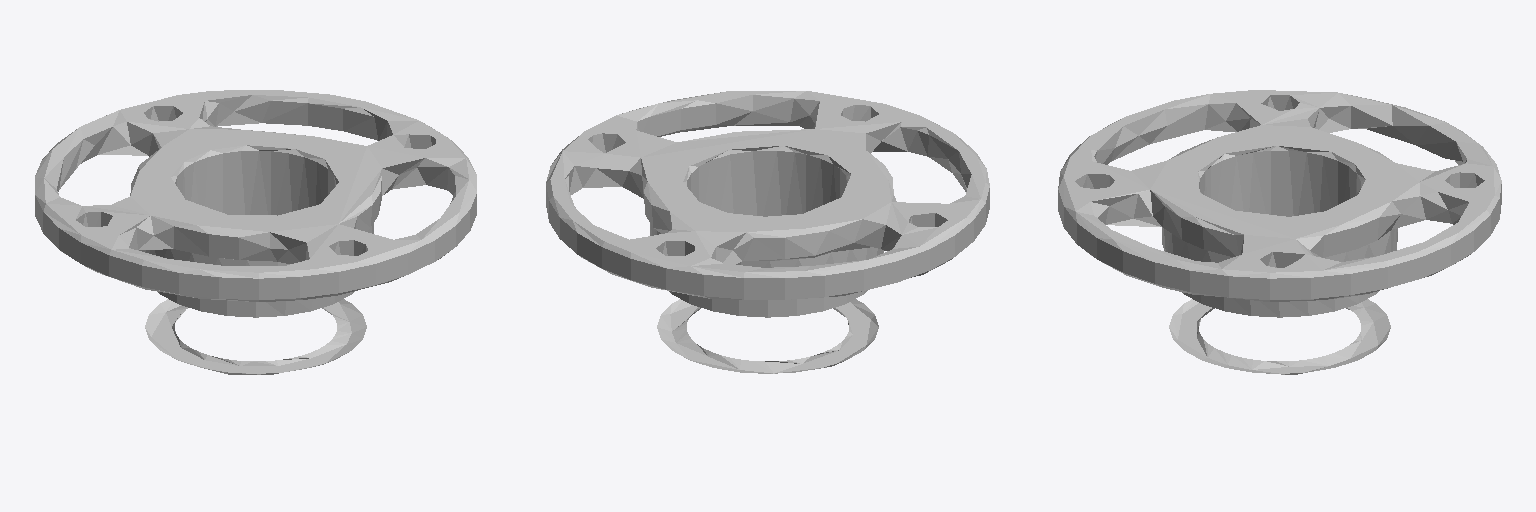
Rendered from solo12_hip_fe_12.obj.
3 renders of one model, left to right at view 1: azimuth 30°, elevation 25°; view 2: azimuth 150°, elevation 25°; view 3: azimuth 270°, elevation 25°, orthographic.
Bounding box in the file's own units: 0.03 × 0.0112 × 0.03.